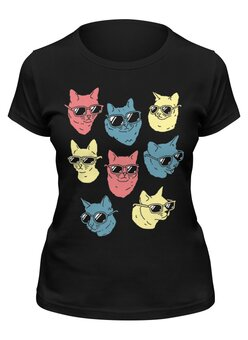cat: (129, 186, 178, 234), (61, 84, 102, 137), (75, 193, 121, 240), (104, 93, 143, 147), (144, 136, 186, 181), (67, 139, 103, 186), (107, 149, 139, 200), (146, 89, 182, 133)
